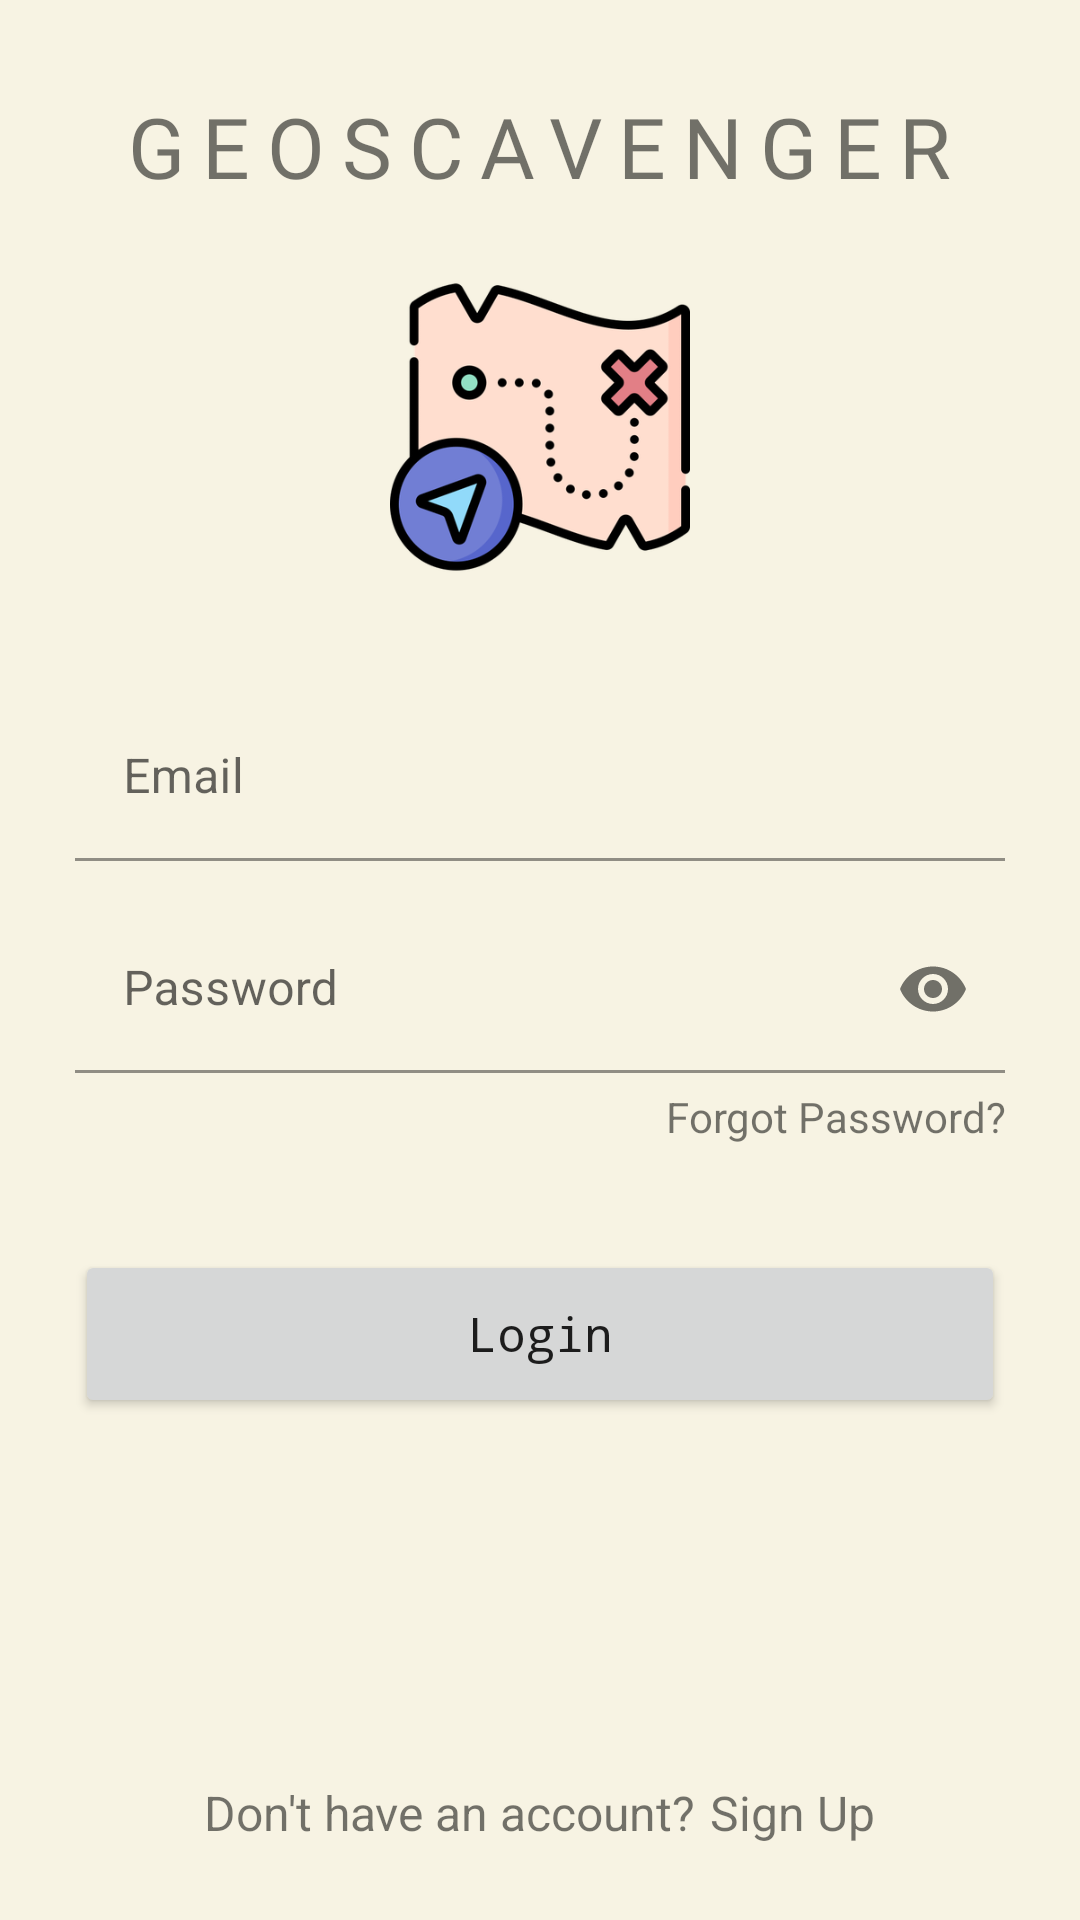

Screen size 1080 x 1920. Icon name, then its box in pixels as (x1, y1, x2, y2):
treasure map: (390, 283, 690, 571)
